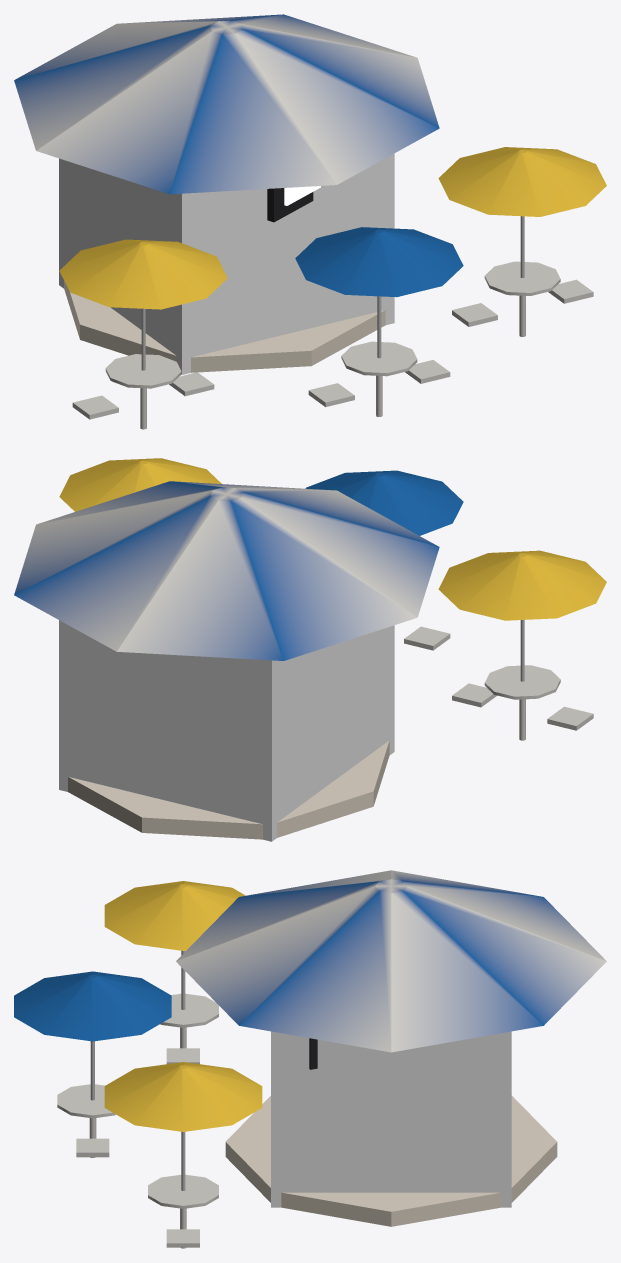
Rendered from quiosco_playa_azul.glb.
3 views of the same model, one above another, from view 1: azimuth 30°, elevation 25°; view 2: azimuth 150°, elevation 25°; view 3: azimuth 270°, elevation 25° (orthographic). The views are drawn at different scales.
Visible parts, largest first — view 1: quiosco_playa_azul_Malla, COL_0; view 2: quiosco_playa_azul_Malla, COL_0; view 3: quiosco_playa_azul_Malla, COL_0.
Part boxes in pixels (x1,y1,x2,y2): quiosco_playa_azul_Malla: (14,14,606,429); COL_0: (59,153,394,374); quiosco_playa_azul_Malla: (14,458,606,839); COL_0: (59,620,394,841); quiosco_playa_azul_Malla: (14,870,606,1248); COL_0: (271,1031,511,1207).
Size of the model in its own units: 7.16 by 3.6 by 7.15.
